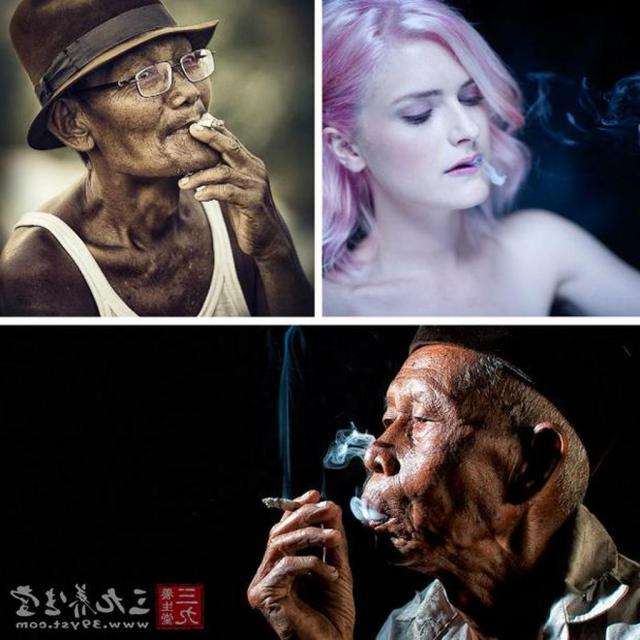smoking: (242, 331, 615, 636), (37, 11, 272, 242), (336, 10, 528, 216)
